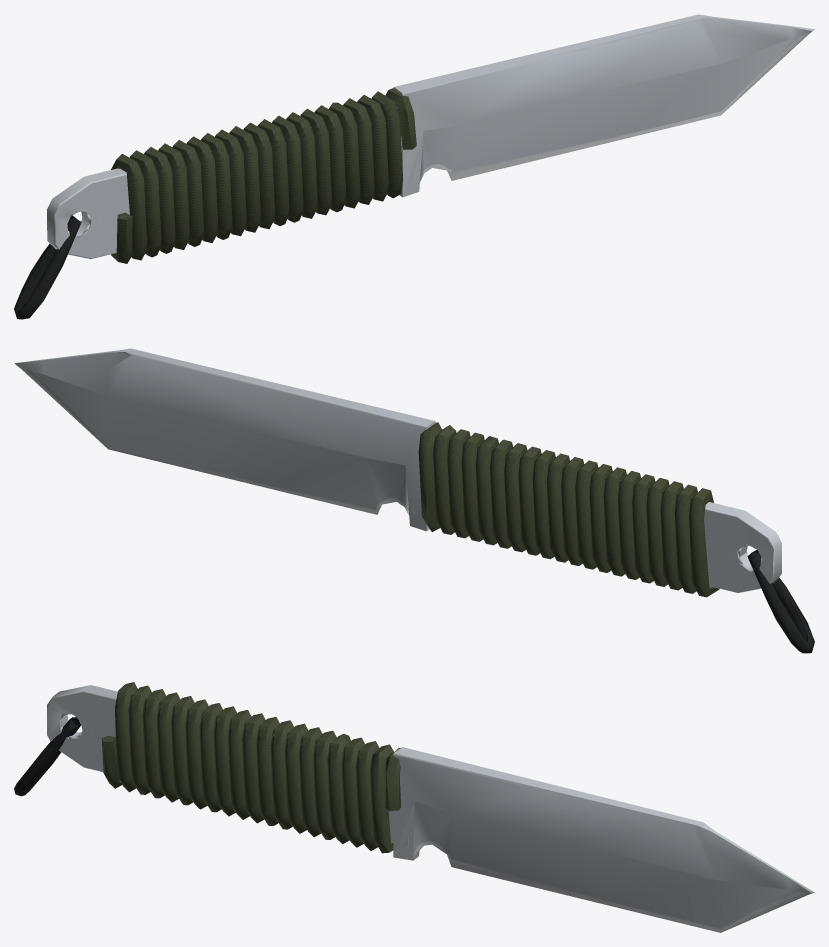
File: paracord_lod1.glb
3 views of the same model, one above another, from view 1: azimuth 30°, elevation 25°; view 2: azimuth 150°, elevation 25°; view 3: azimuth 330°, elevation 25° (orthographic).
Visible parts, largest first — view 1: body; view 2: body; view 3: body.
Boxes of the visible parts, box(x1,y1,x2,y2) form: body: box(14, 14, 814, 319); body: box(14, 348, 814, 653); body: box(14, 682, 814, 932).
Size of the model in its own units: 0.2571 by 0.0424 by 0.0128.
4 materials, 4 textured.
